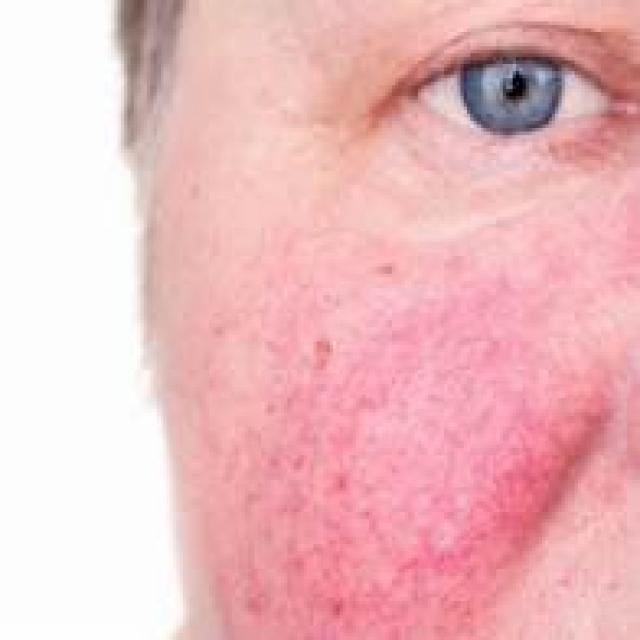Rosacea: (284, 366, 576, 625)
